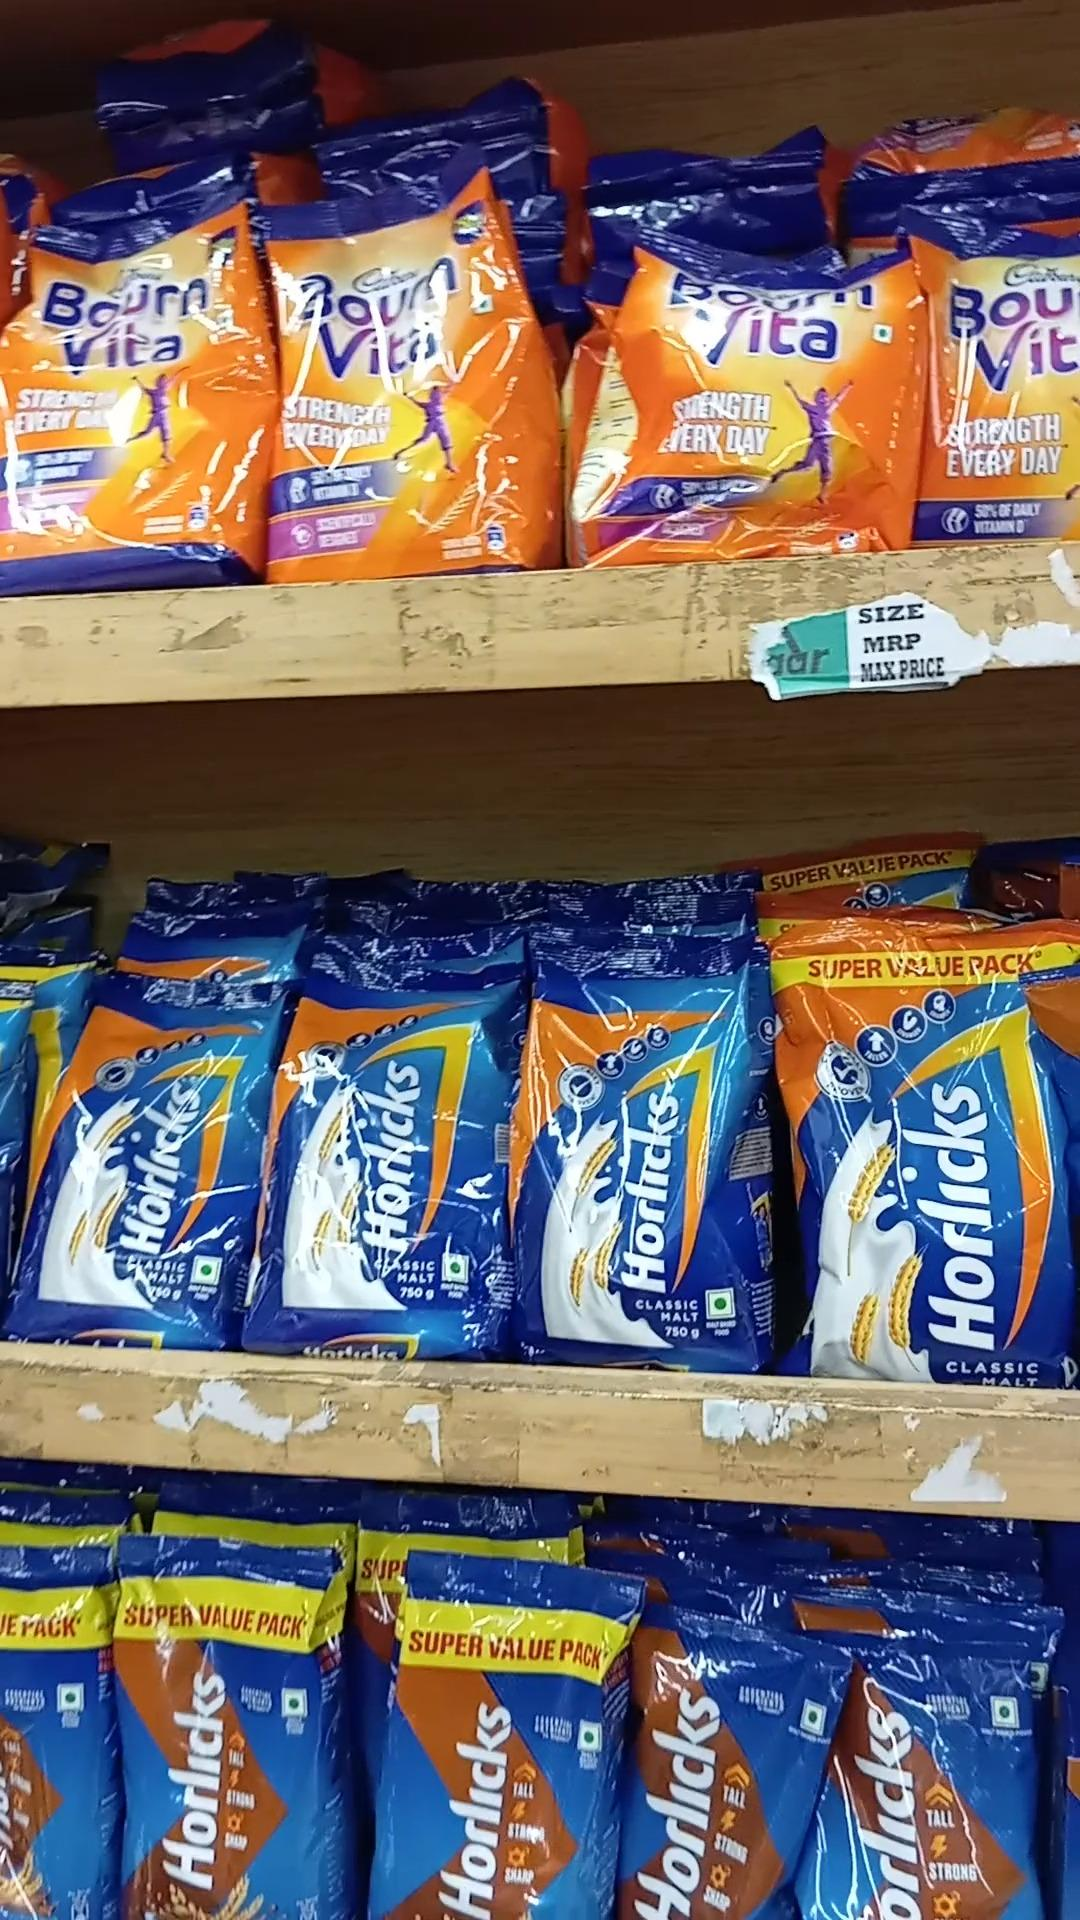BOURN_VITA_750_G_POUCH: (261, 194, 539, 576), (3, 202, 247, 588), (607, 236, 909, 546)
HORLICK_CHOCOLATE_750_G_POUCH: (116, 1534, 339, 1920), (393, 1552, 625, 1920)
HORLICK_CLASSIC_MALT_750_G_POUCH: (521, 960, 760, 1370), (274, 955, 502, 1364), (26, 960, 233, 1352)
